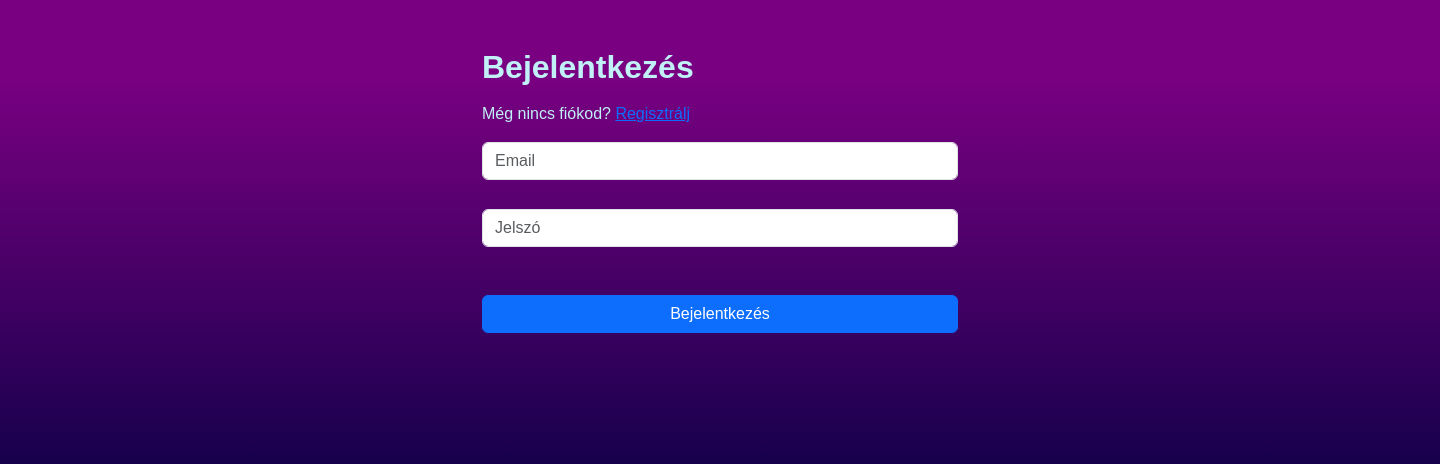
Test case: Login Page › displays error on failed login
Type "test@example.com" into the field with placeholder "Email" at (720, 161), box x1=482 y1=142 x2=958 y2=180
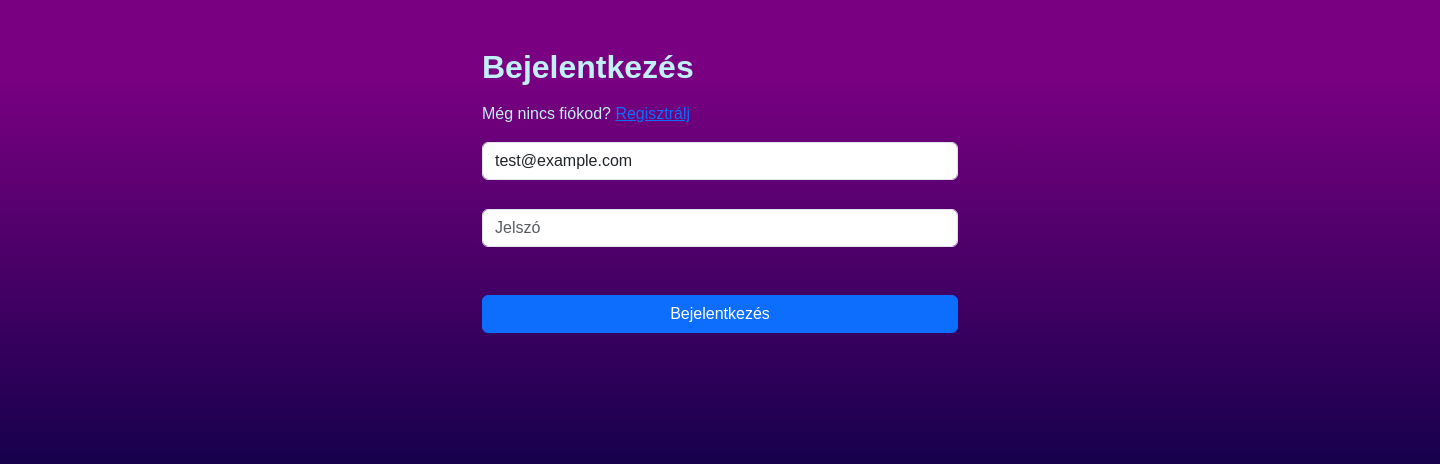
Type "wrongpass" into the password field with placeholder "Jelszó" at (720, 228), box x1=482 y1=209 x2=958 y2=247
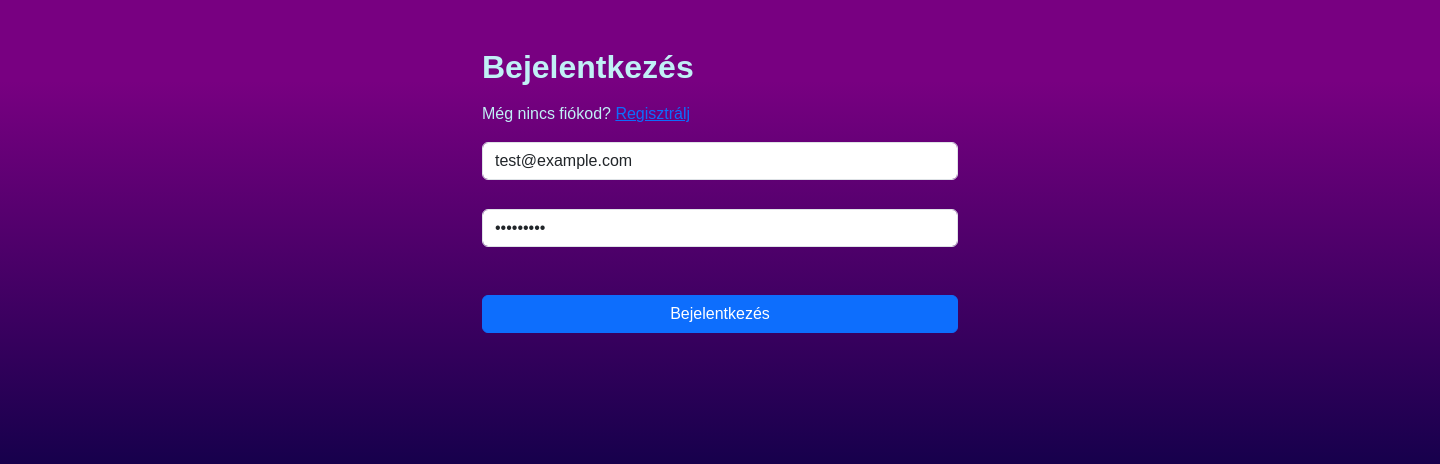
Click the button "Bejelentkezés" at (720, 314), box x1=482 y1=295 x2=958 y2=333
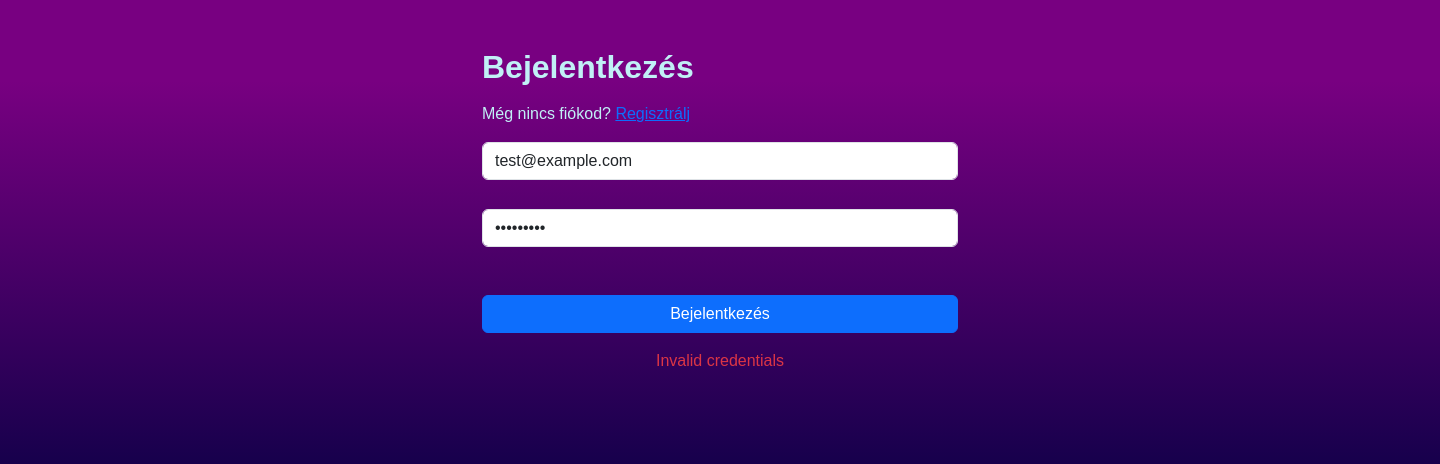
Expected: the text "Invalid credentials" is shown, x1=656 y1=352 x2=784 y2=369
